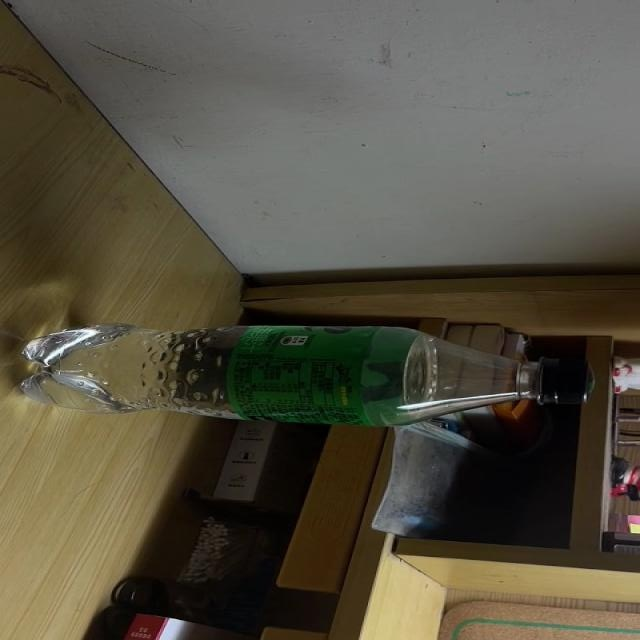Sprite: (19, 324, 593, 428)
